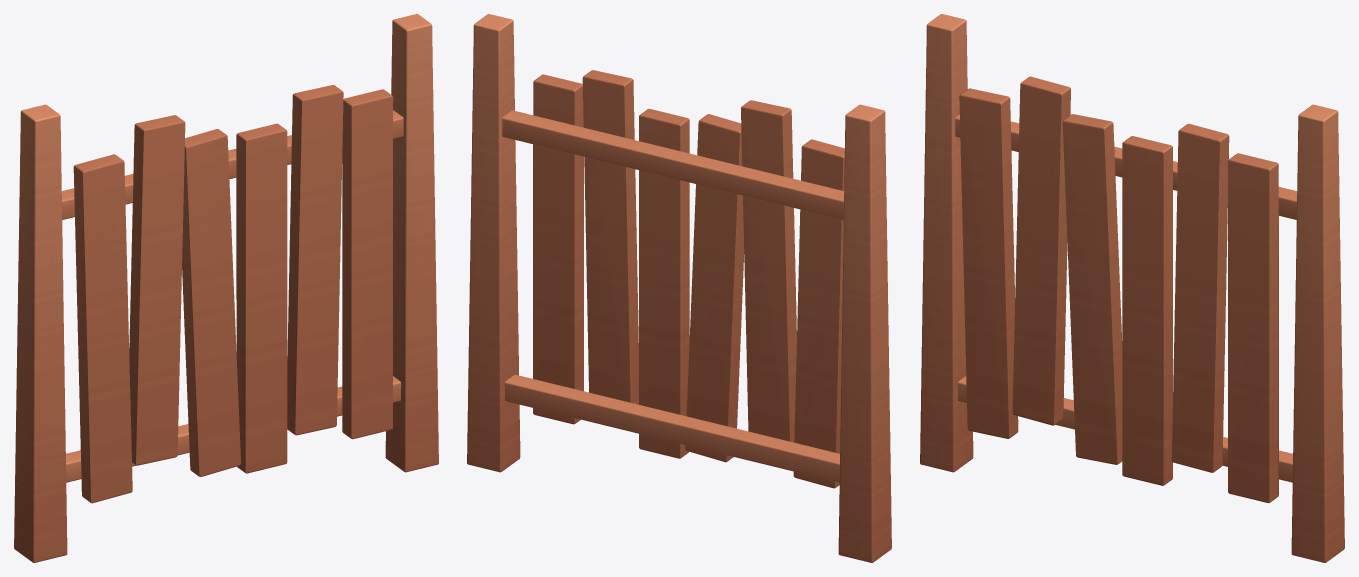
File: fence-fortified.glb
The picture shows the model from 3 angles, left to right: view 1: azimuth 30°, elevation 25°; view 2: azimuth 150°, elevation 25°; view 3: azimuth 330°, elevation 25°; orthographic projection.
Visible parts, largest first — view 1: fence-fortified; view 2: fence-fortified; view 3: fence-fortified.
Boxes of the visible parts, x1,y1,x2,y2 form: fence-fortified: [14, 14, 438, 562]; fence-fortified: [467, 14, 891, 562]; fence-fortified: [920, 14, 1344, 562].
Bounding box in the file's own units: 0.5 × 0.5175 × 0.053.
Materials: 1 (1 with a texture image).
